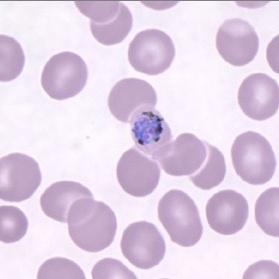Infected: (128, 104, 172, 154)
Uninfected: (156, 190, 205, 246), (68, 199, 118, 252), (231, 131, 276, 184), (40, 180, 94, 223), (41, 51, 89, 98), (127, 29, 174, 76), (107, 78, 156, 122), (121, 222, 166, 268), (215, 17, 259, 64), (158, 132, 206, 175), (237, 72, 279, 121), (116, 149, 159, 196), (0, 153, 41, 202), (205, 190, 250, 234), (189, 142, 225, 189), (90, 5, 132, 45), (0, 205, 28, 243)
